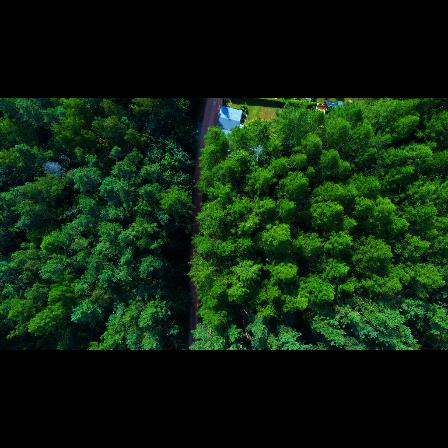Dead: (245, 140, 267, 167), (40, 160, 68, 180)
